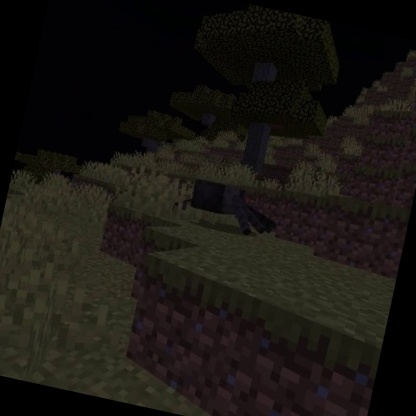spider: (179, 174, 284, 245)
